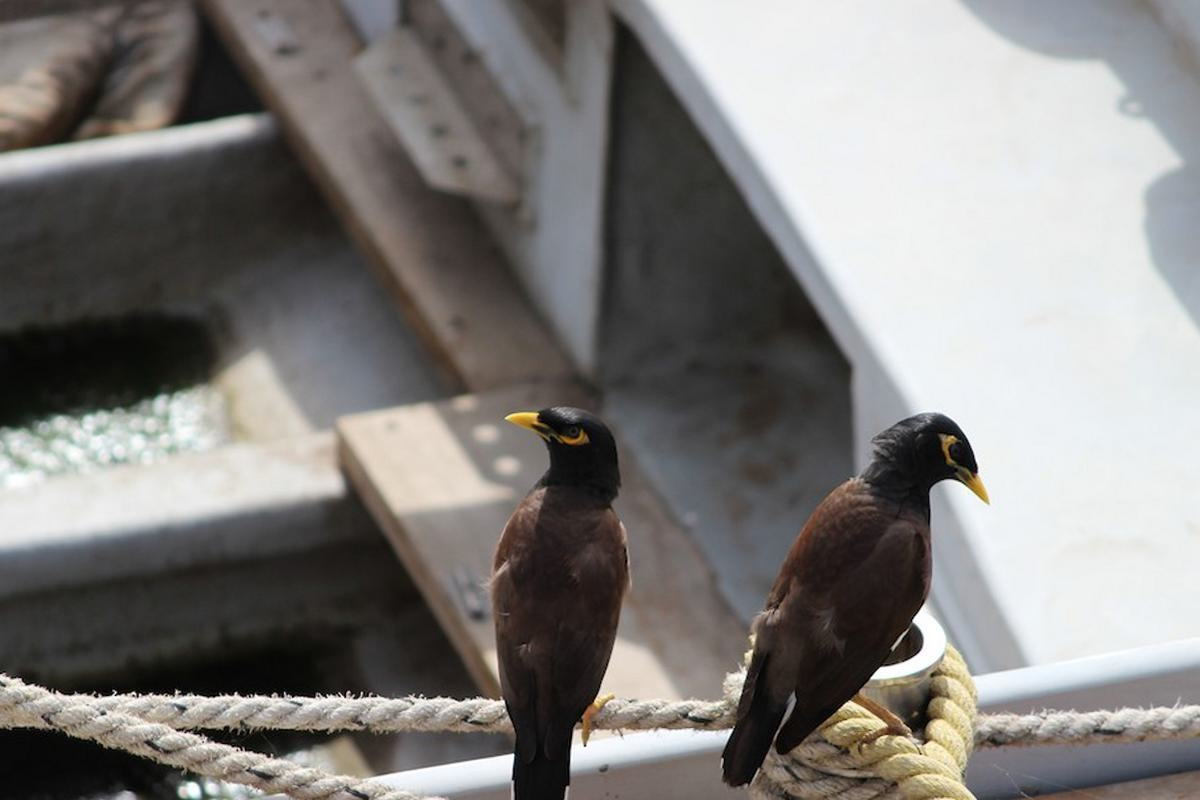myna: (717, 392, 996, 781), (468, 392, 655, 800)
